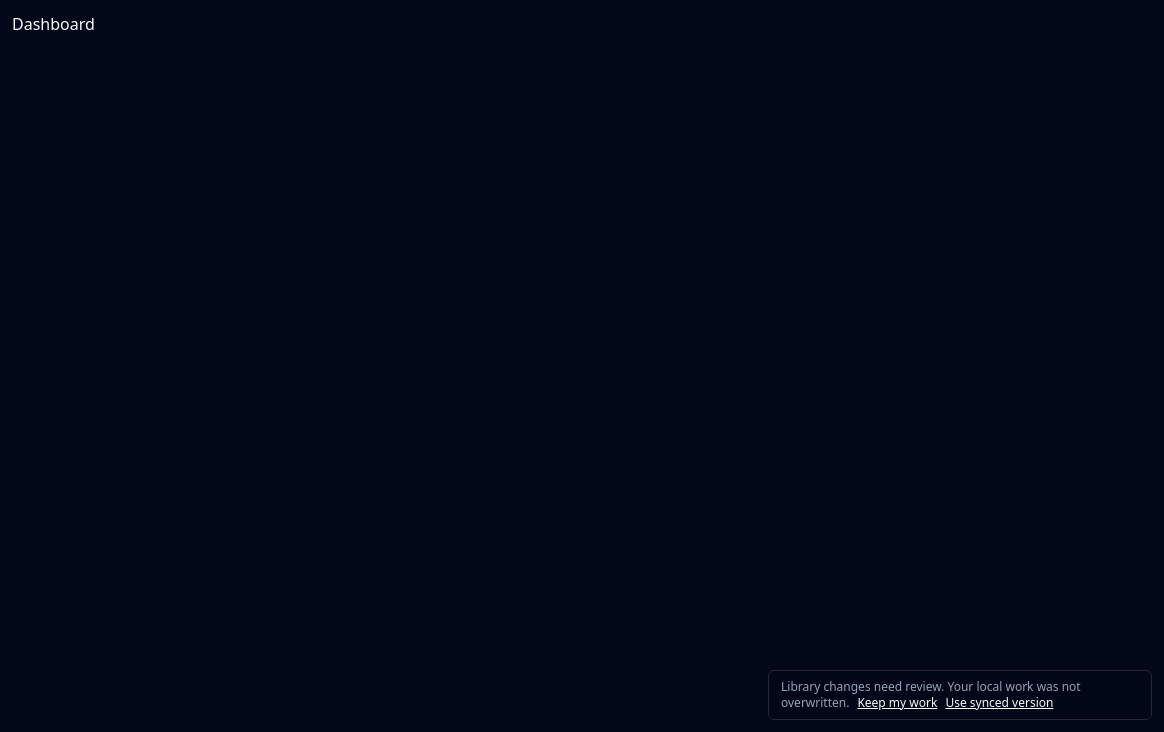
Test case: LibrarySyncGate › keeps preserved local work mounted across a reload until the user chooses the synced version
Expected: the text "Dashboard" is shown, [12, 13, 95, 35]
Expected: the message shows "not overwritten", [781, 678, 1081, 711]
Click the button "Use synced version" at (999, 703), box [945, 695, 1054, 711]
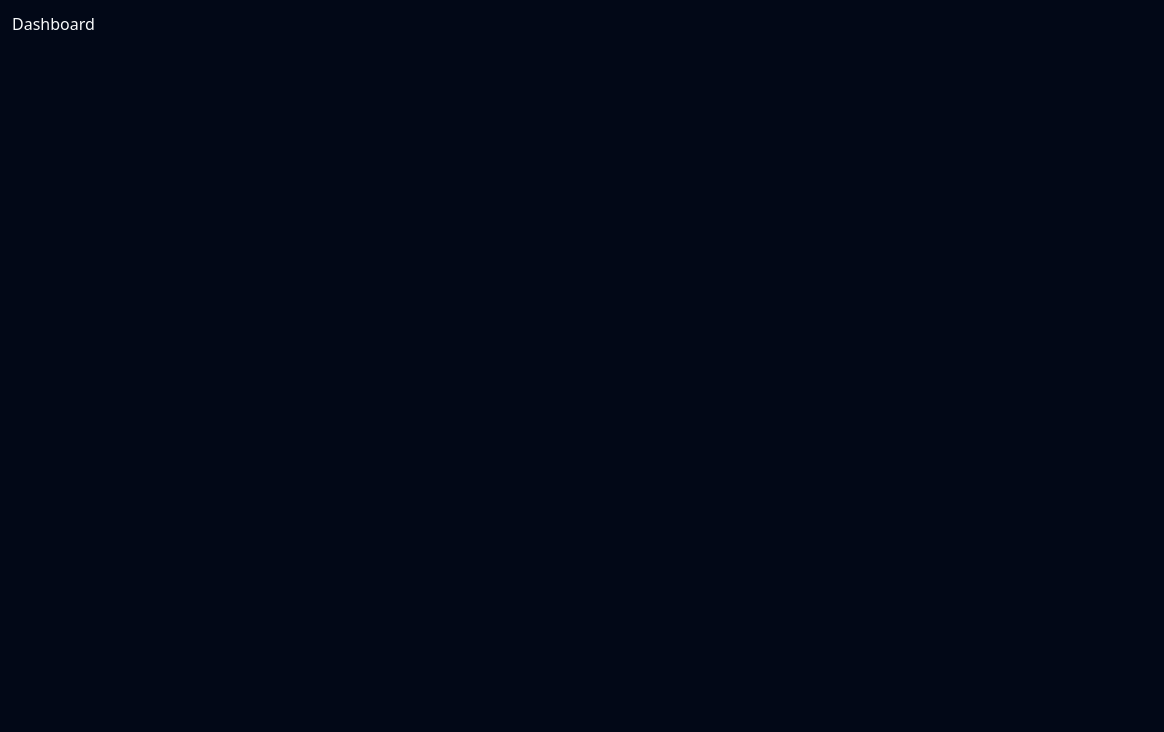
Expected: the message is gone
